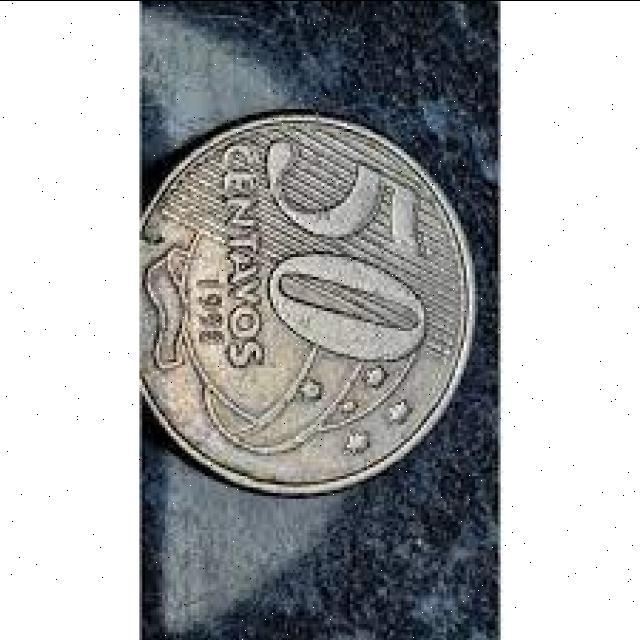50 cent: (142, 114, 478, 494)
